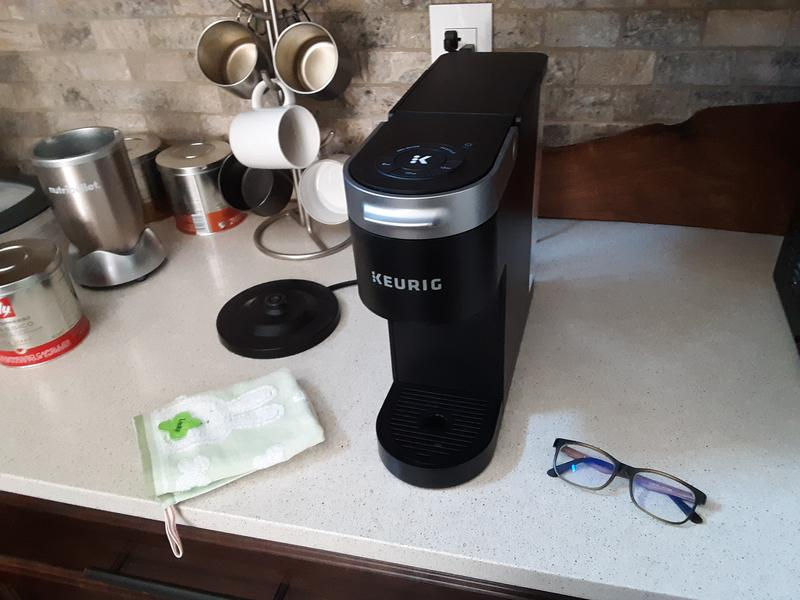glasses: (545, 436, 709, 527)
